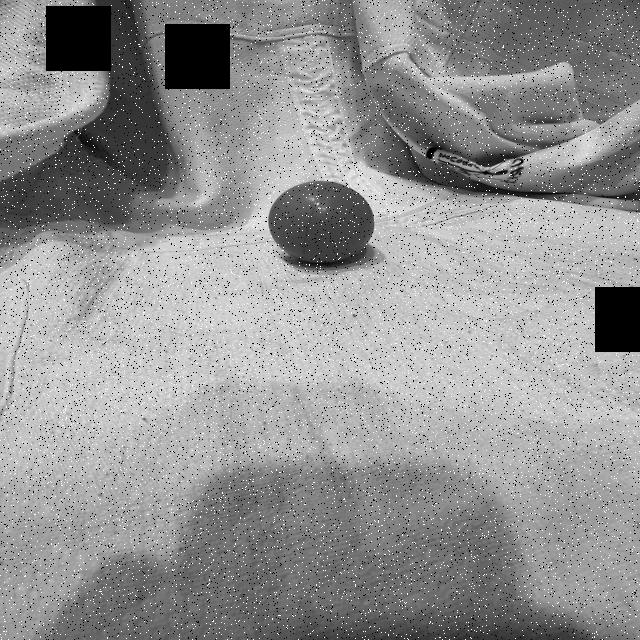ball: (264, 175, 378, 266)
